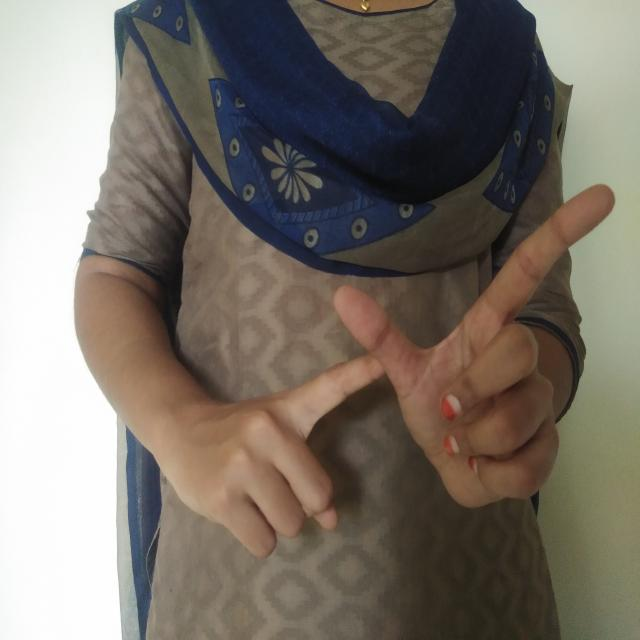Y: (172, 181, 623, 562)
